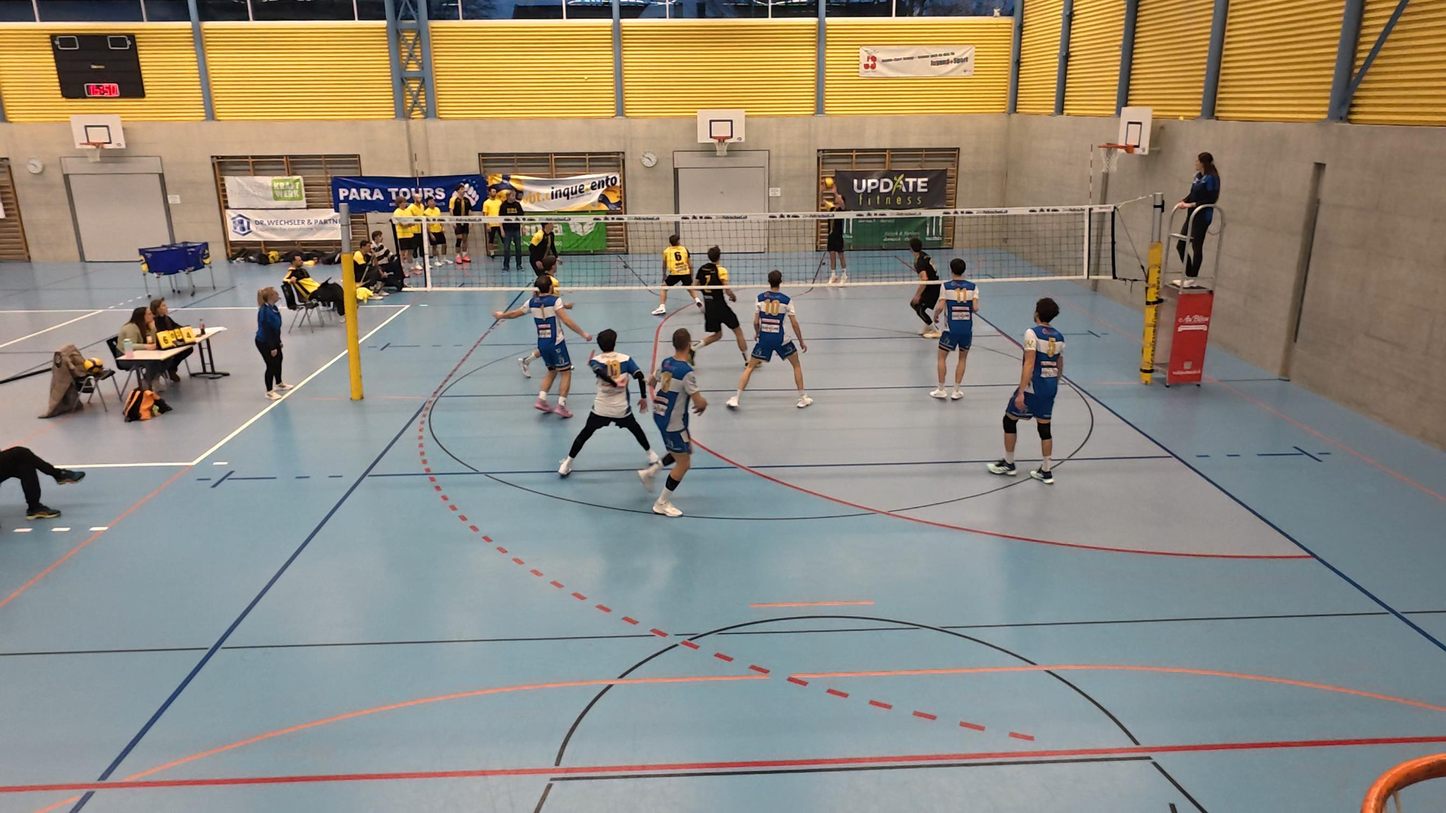alzata: (816, 177, 855, 291)
